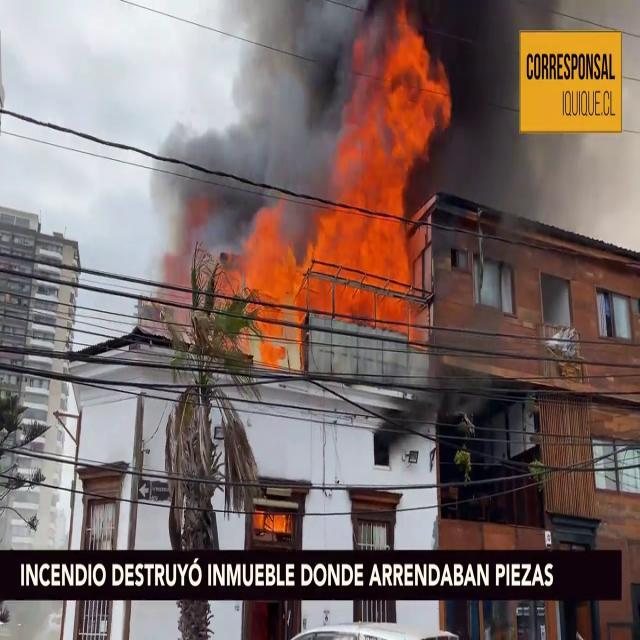Fire: (215, 11, 453, 370)
Smoke: (137, 0, 350, 254)
